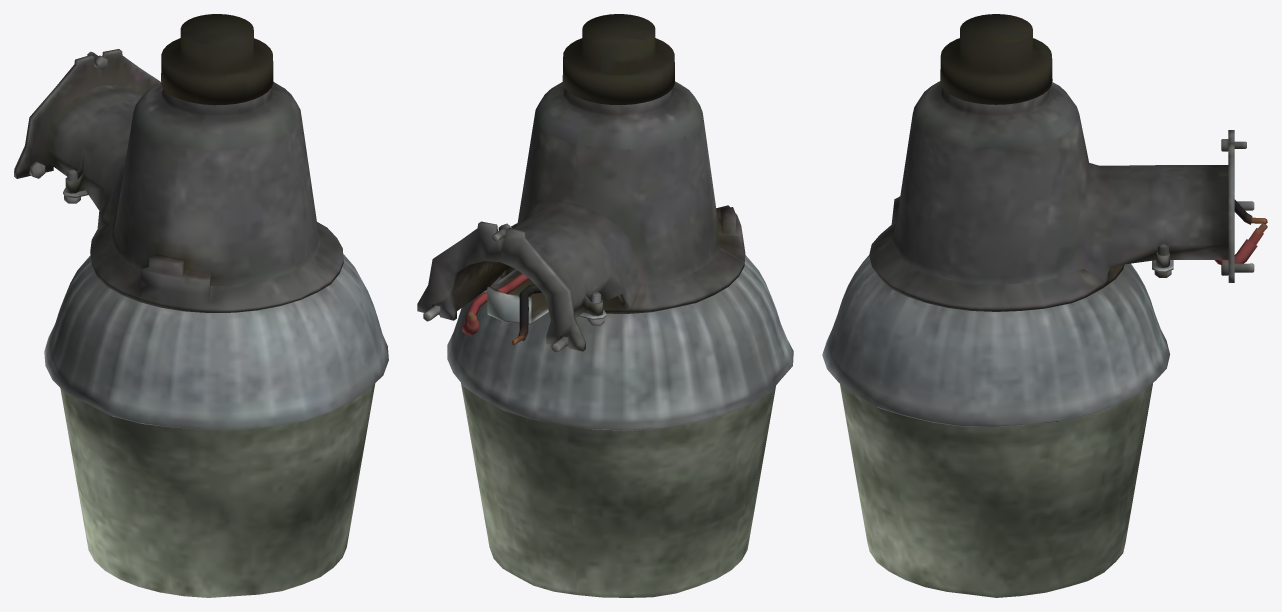
File: security_light.glb
The picture shows the model from 3 angles, left to right: view 1: azimuth 30°, elevation 25°; view 2: azimuth 150°, elevation 25°; view 3: azimuth 270°, elevation 25°; orthographic projection.
Visible parts, largest first — view 1: security_light, security_light_glass; view 2: security_light, security_light_glass; view 3: security_light, security_light_glass.
Boxes of the visible parts, left/top/right/bottom form: security_light: left=14, top=14, right=388, bottom=429; security_light_glass: left=60, top=383, right=375, bottom=597; security_light: left=417, top=14, right=793, bottom=430; security_light_glass: left=461, top=383, right=775, bottom=597; security_light: left=822, top=14, right=1267, bottom=426; security_light_glass: left=840, top=383, right=1152, bottom=597.
Size of the model in its own units: 0.3232 by 0.531 by 0.4172.
2 materials, 2 textured.
